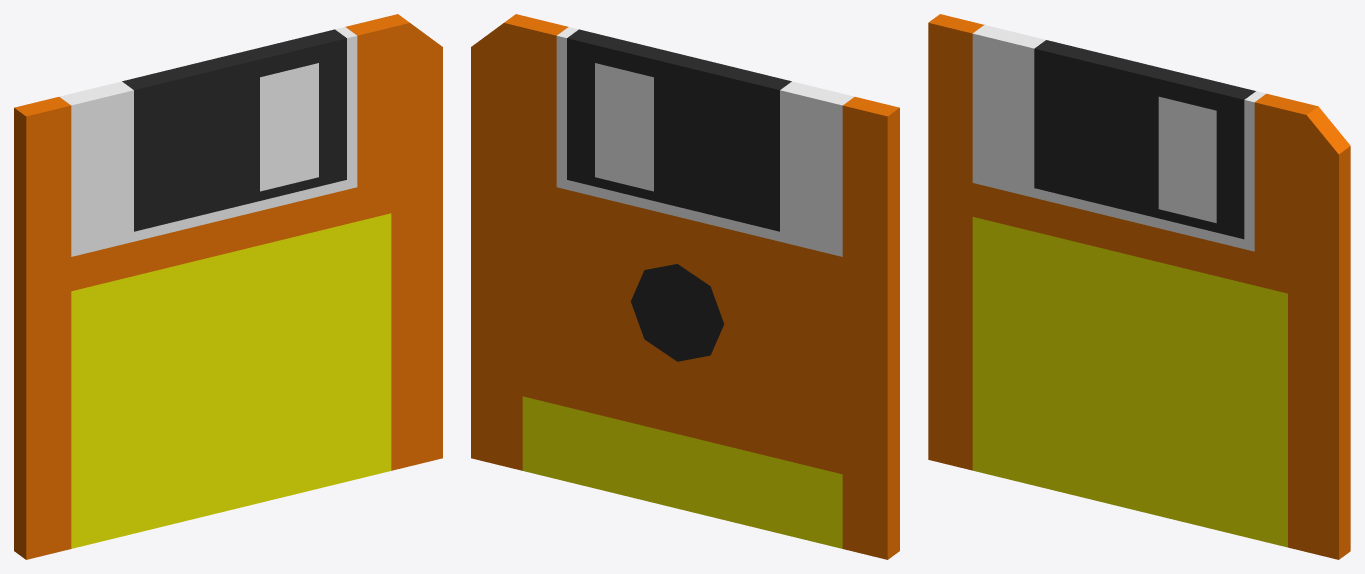
Rendered from floppy_orangeyellow.FBX.
3 renders of one model, left to right at view 1: azimuth 30°, elevation 25°; view 2: azimuth 150°, elevation 25°; view 3: azimuth 330°, elevation 25°, orthographic.
Parts seen in each view (by area): view 1: floppy_orangeyellow; view 2: floppy_orangeyellow; view 3: floppy_orangeyellow.
Part boxes in pixels (x1=…): floppy_orangeyellow: x1=14, y1=14, x2=442, y2=559; floppy_orangeyellow: x1=471, y1=14, x2=899, y2=559; floppy_orangeyellow: x1=928, y1=14, x2=1350, y2=559.
Bounding box in the file's own units: 54.75 × 55.69 × 2.75.
